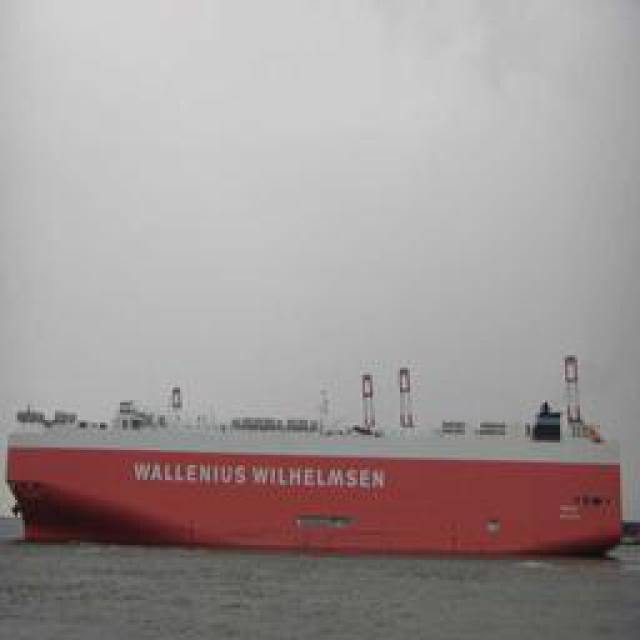Ship: (6, 343, 636, 568)
